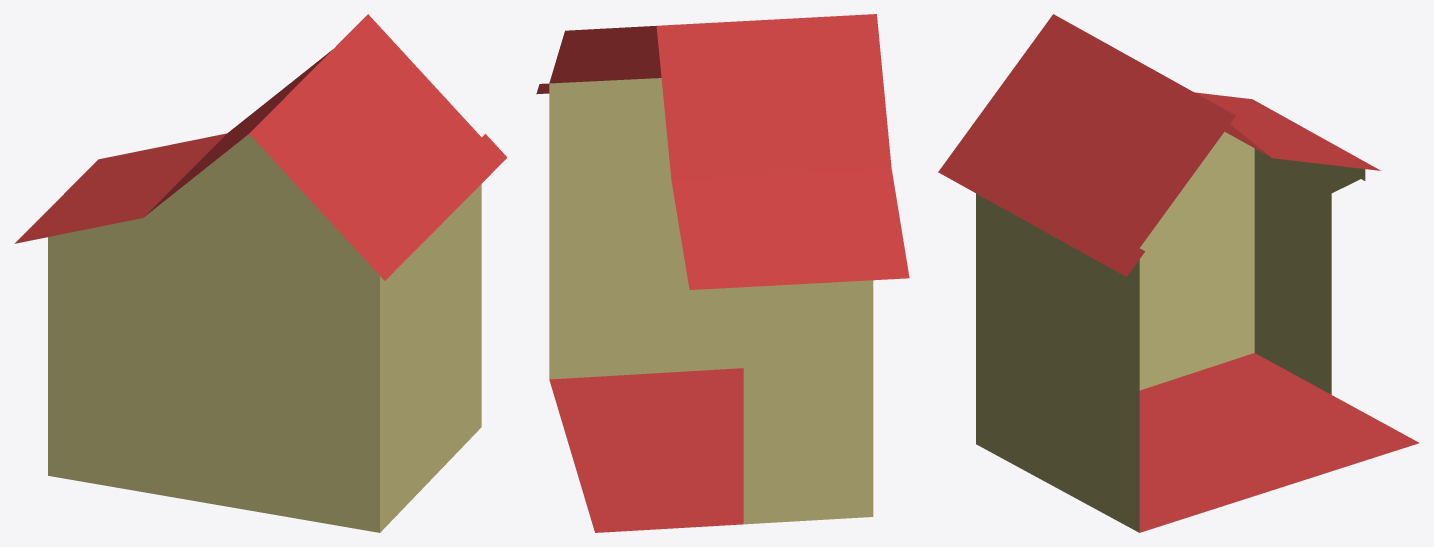
3 views of the same model, side by side, from view 1: azimuth 30°, elevation 25°; view 2: azimuth 150°, elevation 25°; view 3: azimuth 270°, elevation 25° (orthographic). The views are drawn at different scales.
Size of the model in its own units: 17.45 by 17.26 by 15.27.
